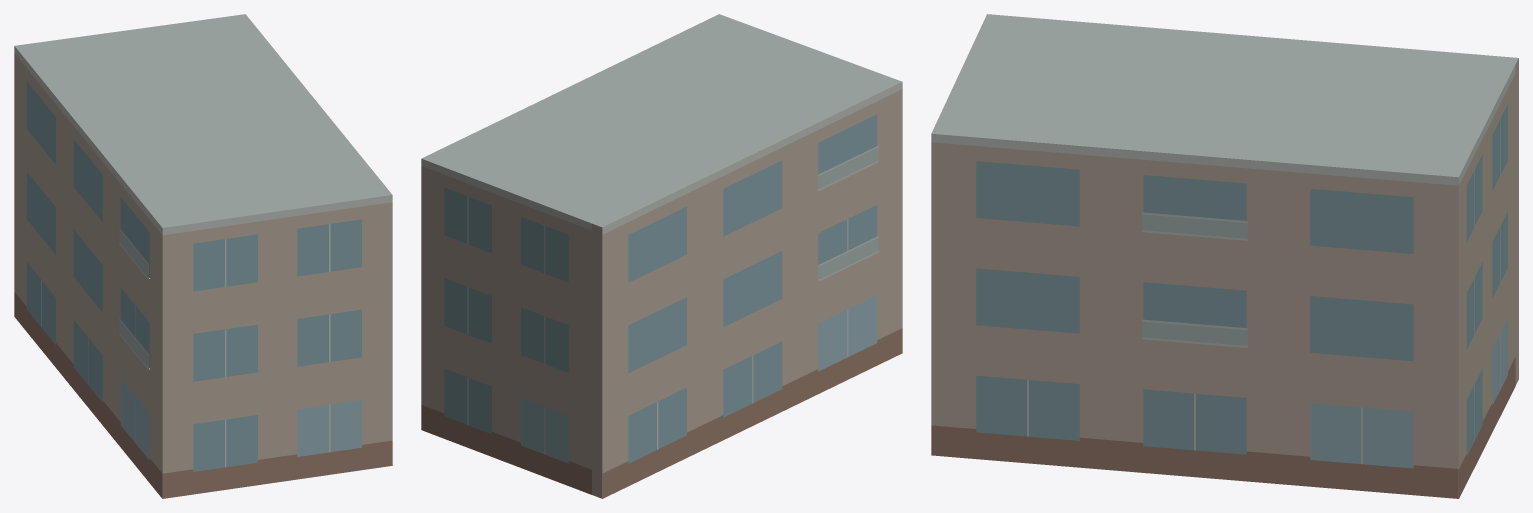
File: survey-upis-32830689.glb
3 views of the same model, side by side, from view 1: azimuth 30°, elevation 25°; view 2: azimuth 150°, elevation 25°; view 3: azimuth 270°, elevation 25° (orthographic). The views are drawn at different scales.
Parts seen in each view (by area): view 1: survey-upis-32830689.tmp; view 2: survey-upis-32830689.tmp; view 3: survey-upis-32830689.tmp.
Part boxes in pixels (box(x1,y1,x2,y2)): survey-upis-32830689.tmp: box(14, 14, 392, 498); survey-upis-32830689.tmp: box(421, 14, 902, 498); survey-upis-32830689.tmp: box(931, 14, 1518, 498).
Size of the model in its own units: 9.97 by 9.15 by 15.16.
